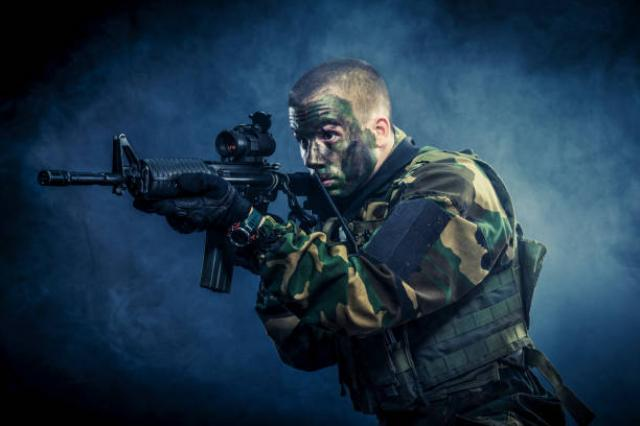other: (284, 58, 524, 412)
